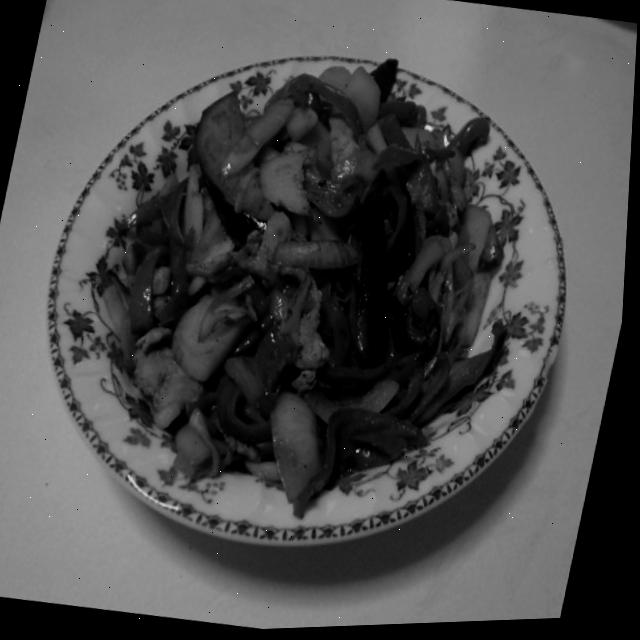牛肉菜式: (0, 0, 633, 618)
